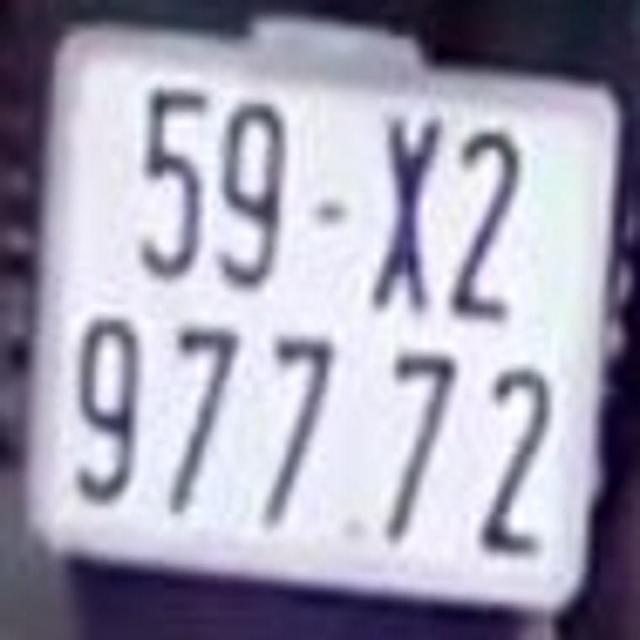2: (449, 106, 519, 327), (481, 352, 553, 561)
5: (140, 68, 208, 284)
7: (380, 336, 454, 546), (168, 314, 238, 521), (264, 319, 332, 531)
9: (215, 75, 285, 292), (77, 311, 139, 500)
X: (369, 97, 444, 314)
